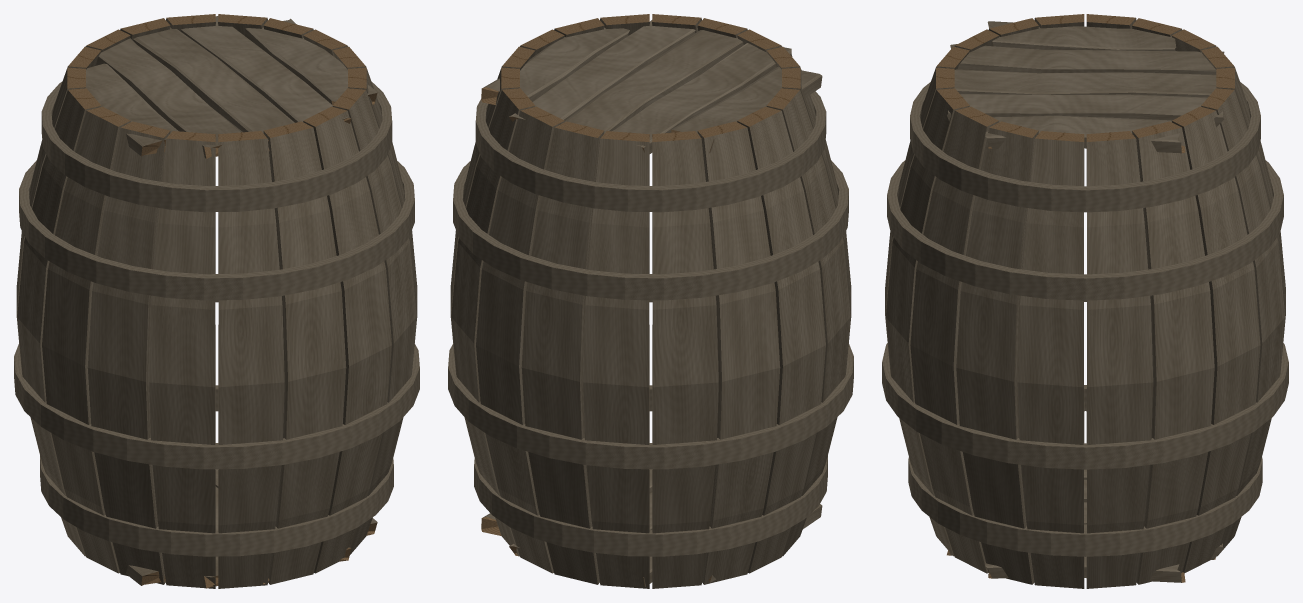
Rendered from barrel_intact.fbx.
3 renders of one model, left to right at view 1: azimuth 30°, elevation 25°; view 2: azimuth 150°, elevation 25°; view 3: azimuth 270°, elevation 25°, orthographic.
Visible parts, largest first — view 1: barrel_intact; view 2: barrel_intact; view 3: barrel_intact.
Boxes of the visible parts, x1,y1,x2,y2 form: barrel_intact: [14, 14, 419, 588]; barrel_intact: [448, 14, 853, 588]; barrel_intact: [882, 14, 1288, 588].
Size of what is drawn, in the model's own units: 0.7507 by 0.9105 by 0.7507.
Materials: 1 (1 with a texture image).
